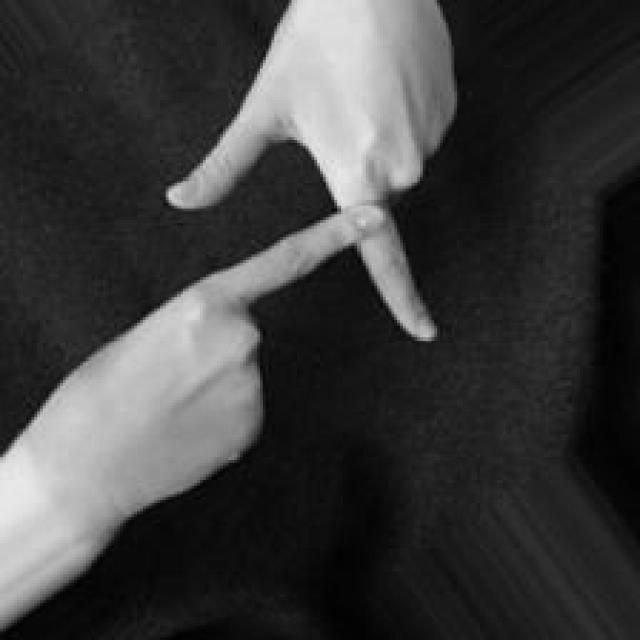F: (68, 0, 456, 523)
